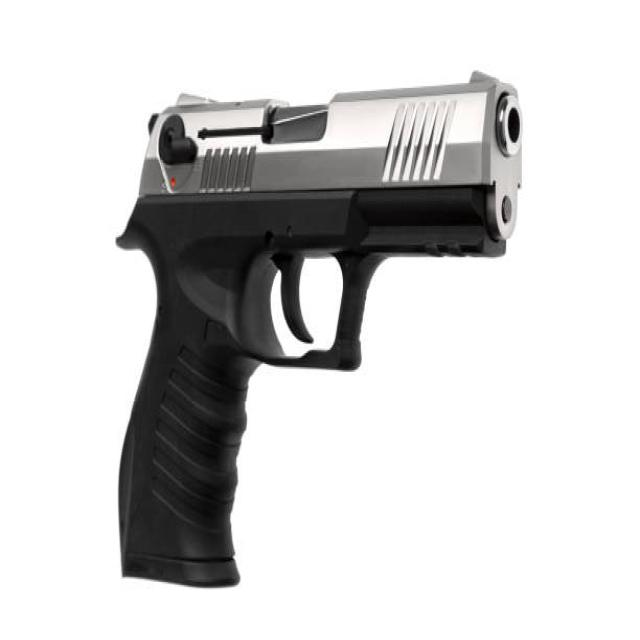pistol: (116, 67, 529, 591)
